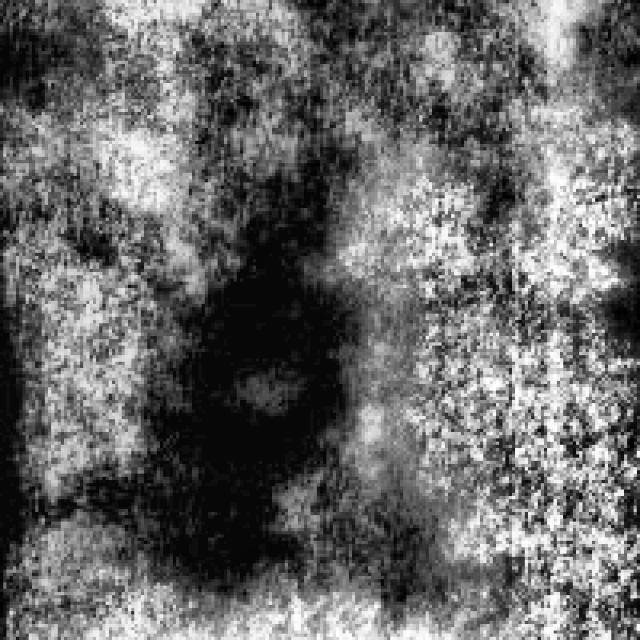Scratches: (111, 119, 406, 602), (560, 0, 637, 118)
